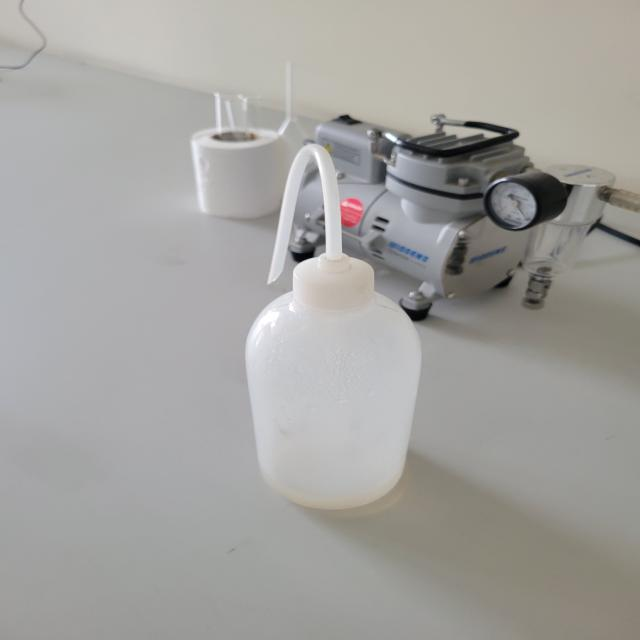Wash_Bottle: (199, 89, 489, 534)
